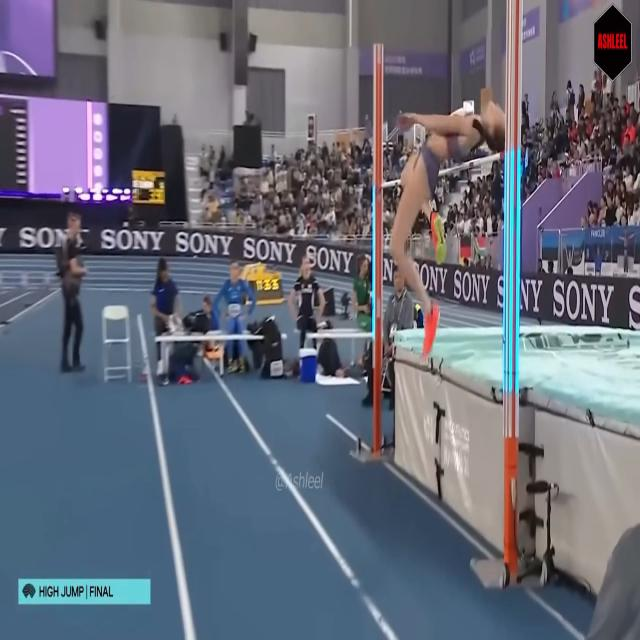jump: (387, 98, 506, 361)
